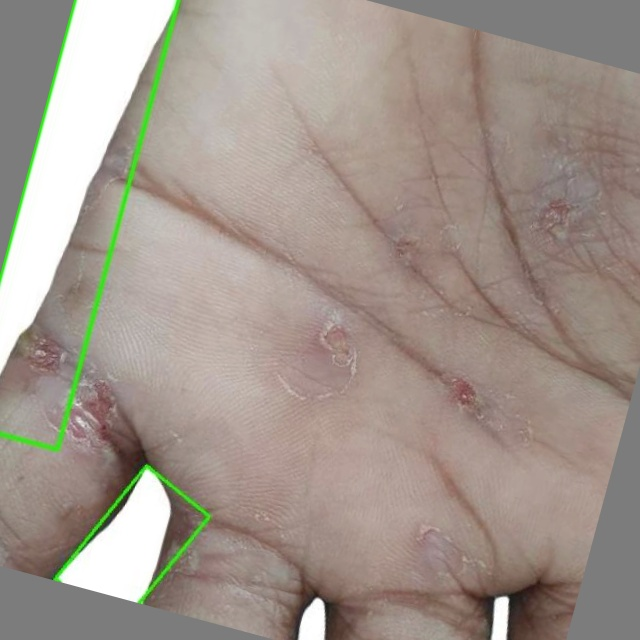Scabies: (0, 0, 178, 449), (55, 466, 210, 604)
